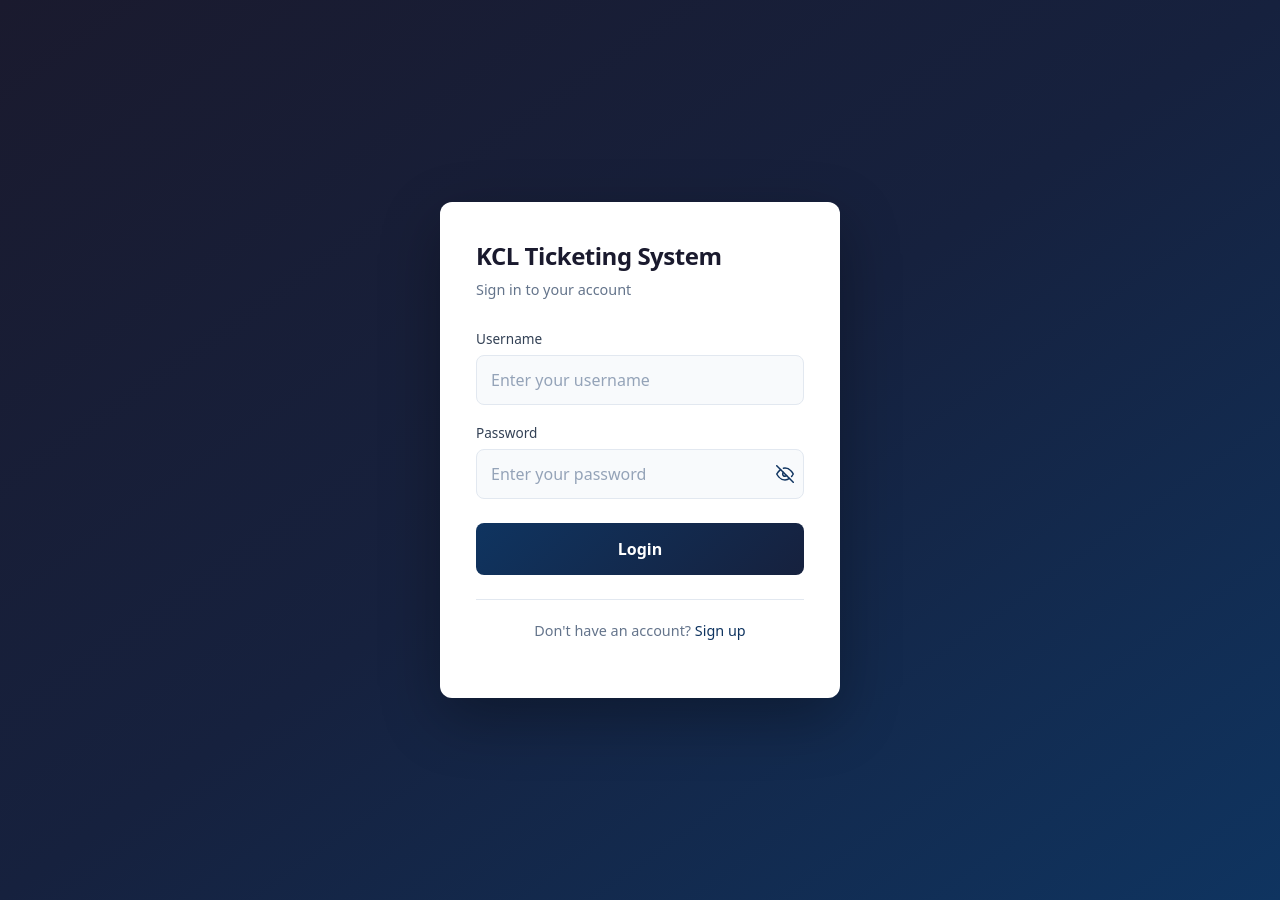
Test: Login › shows fallback login error message
Type "user1" into the field labelled "Username" at (640, 380), box [476,355,804,405]
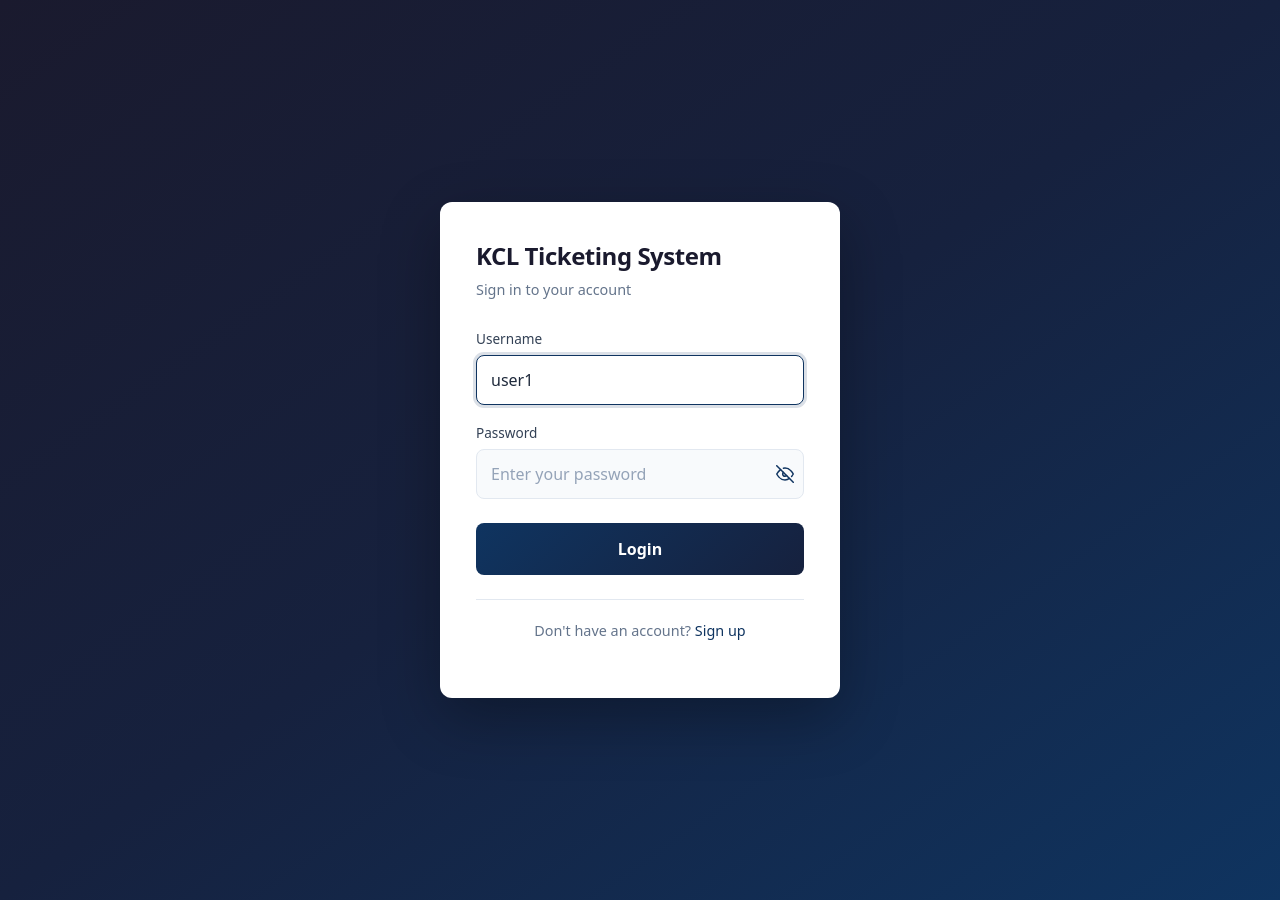
Type "bad" into the password field labelled "Password" at (640, 474), box [476,449,804,499]
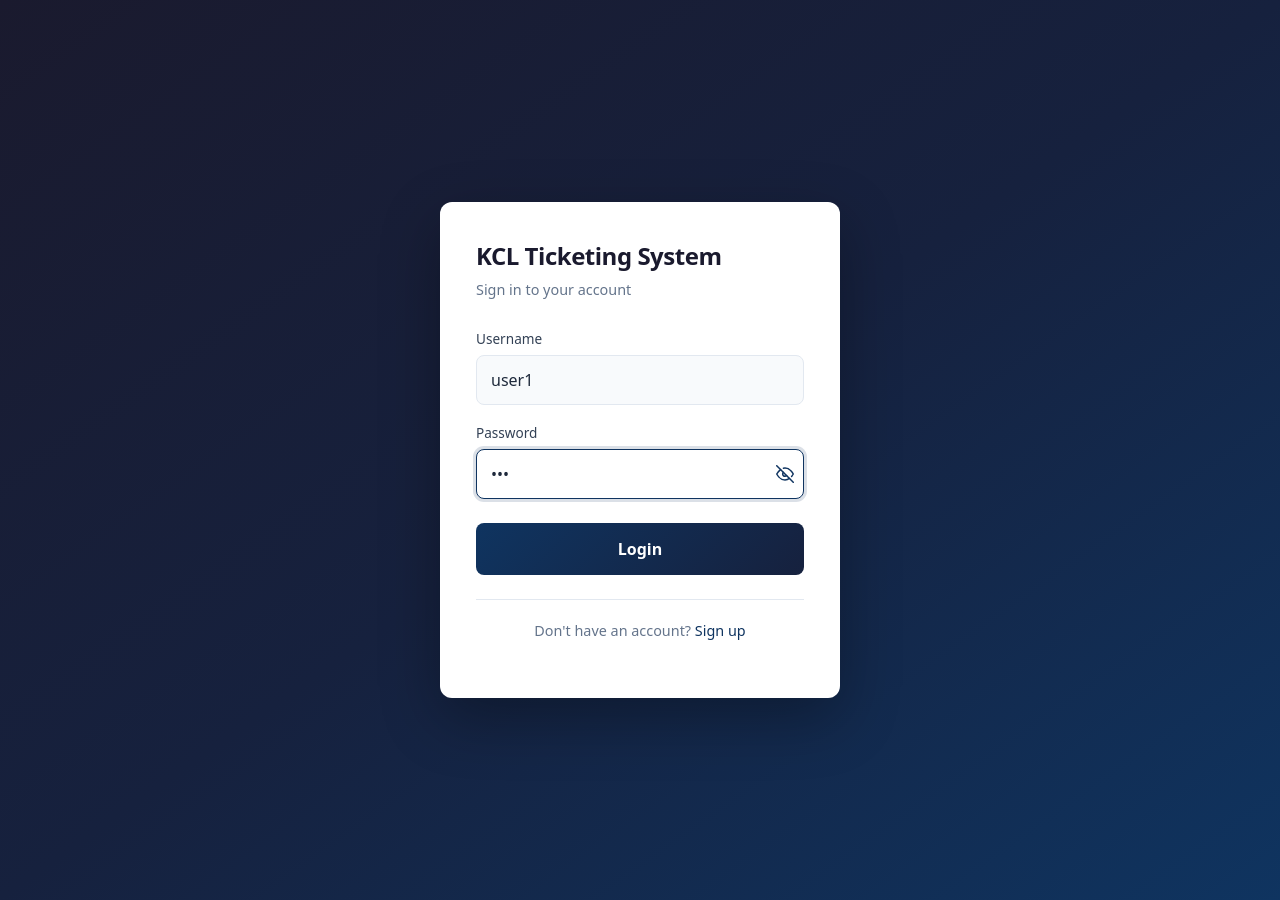
Click the button "Login" at (640, 549), box [476,523,804,575]
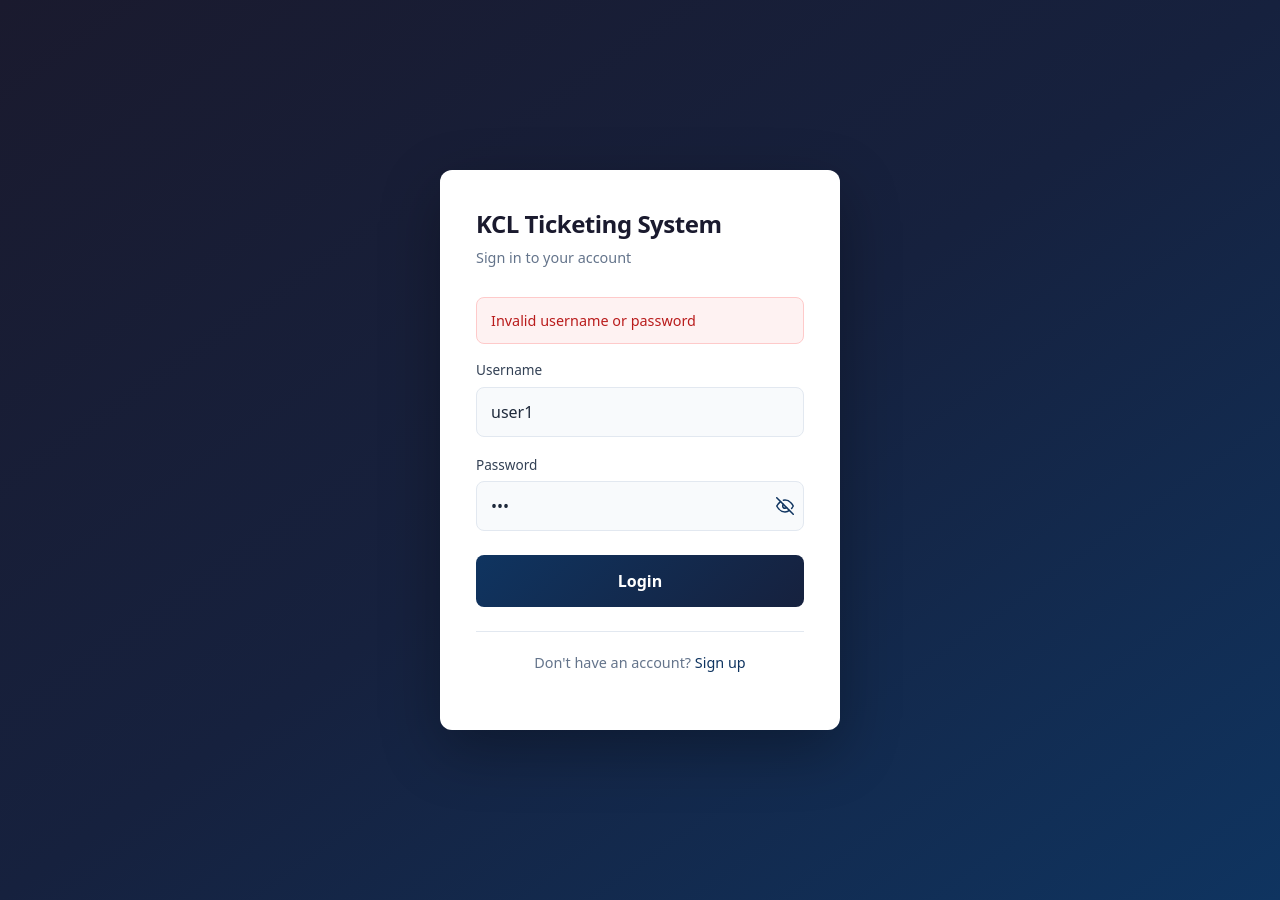
Expected: the message reads "Invalid username or password", [491,311,696,330]
